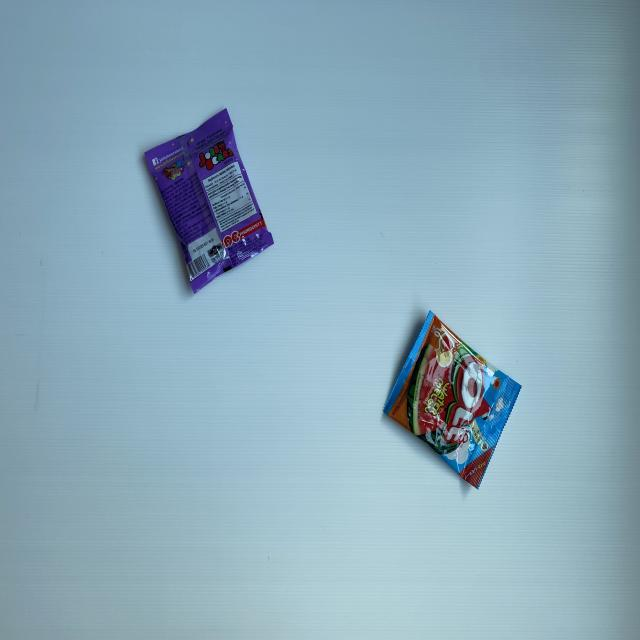candy: (384, 311, 520, 489), (145, 108, 274, 294)
